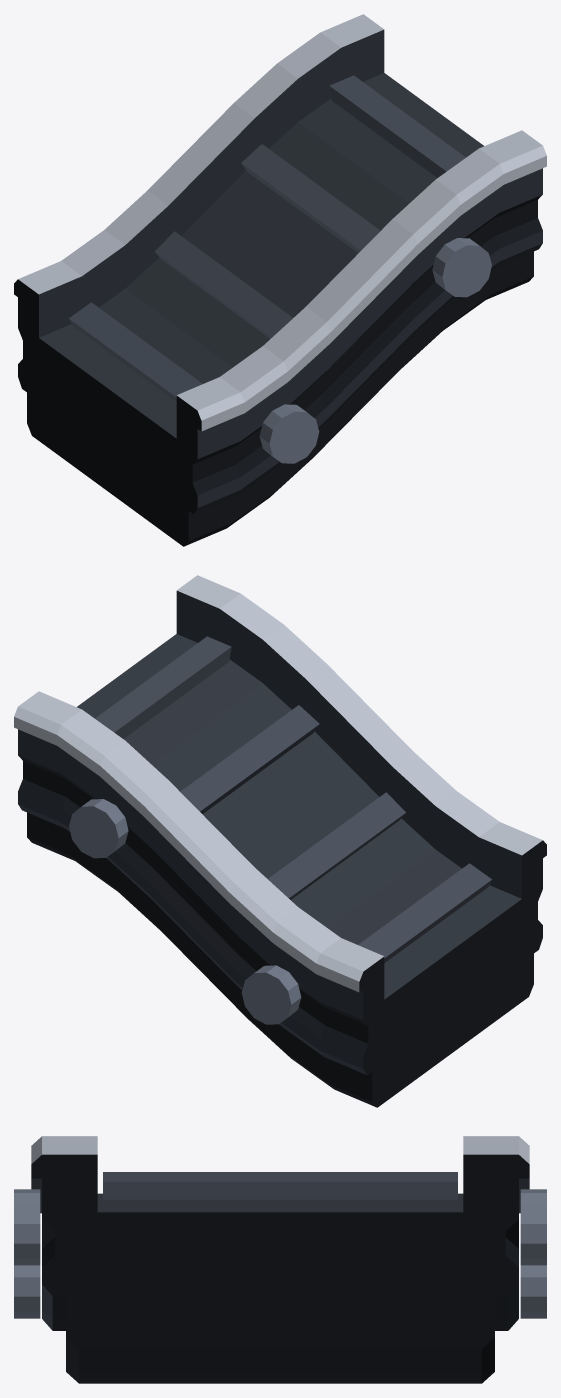
File: belt-ramp-up.glb
The picture shows the model from 3 angles, top to bottom: view 1: azimuth 30°, elevation 25°; view 2: azimuth 150°, elevation 25°; view 3: azimuth 270°, elevation 25°; orthographic projection. The views are drawn at different scales.
Visible parts, largest first — view 1: belt-ramp-up; view 2: belt-ramp-up; view 3: belt-ramp-up.
Part boxes in pixels (bbox=[...]): belt-ramp-up: bbox=[14, 14, 546, 546]; belt-ramp-up: bbox=[14, 575, 546, 1107]; belt-ramp-up: bbox=[14, 1136, 546, 1383].
Bounding box in the file's own units: 1 × 0.905 × 1.01.
